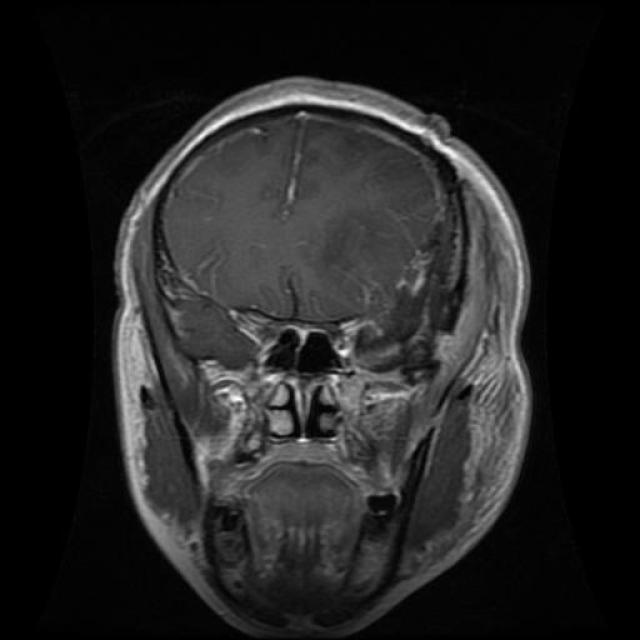glioma: (225, 291, 363, 450)
